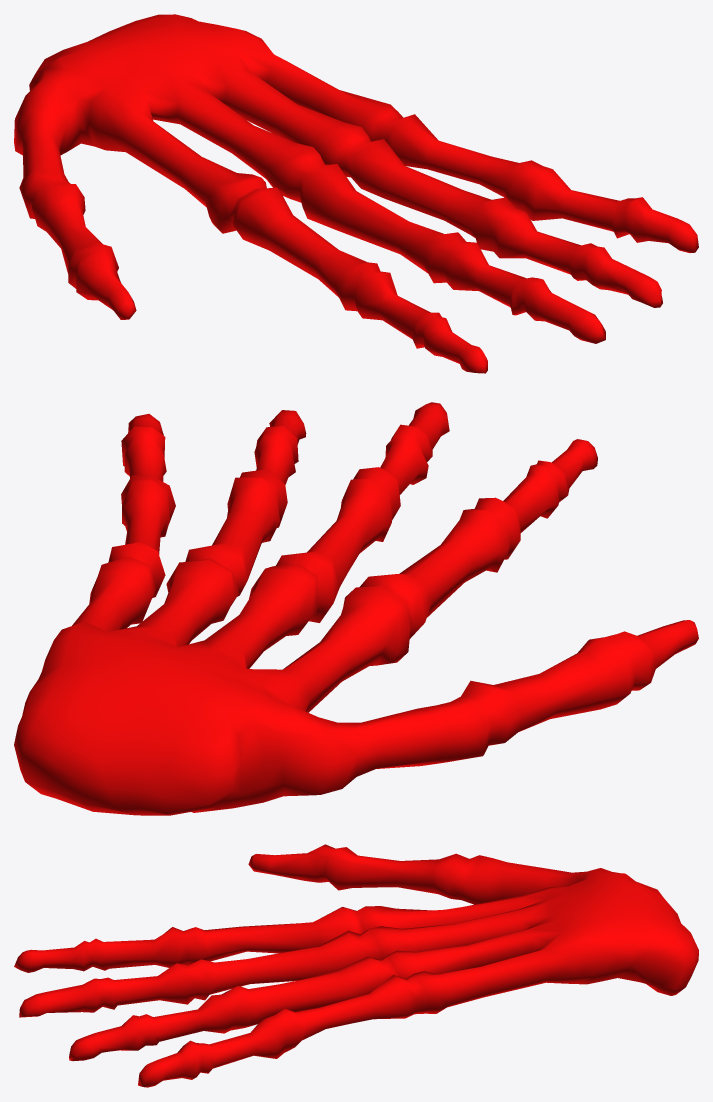
File: SM_L_Hands.FBX
3 renders of one model, top to bottom at view 1: azimuth 30°, elevation 25°; view 2: azimuth 150°, elevation 25°; view 3: azimuth 270°, elevation 25°, orthographic. The views are drawn at different scales.
Visible parts, largest first — view 1: L_Hands; view 2: L_Hands; view 3: L_Hands.
Boxes of the visible parts, x1=… form: L_Hands: x1=14, y1=14, x2=698, y2=373; L_Hands: x1=14, y1=402, x2=698, y2=815; L_Hands: x1=14, y1=844, x2=698, y2=1087.
Size of the model in its own units: 14.79 by 2.56 by 19.72.
